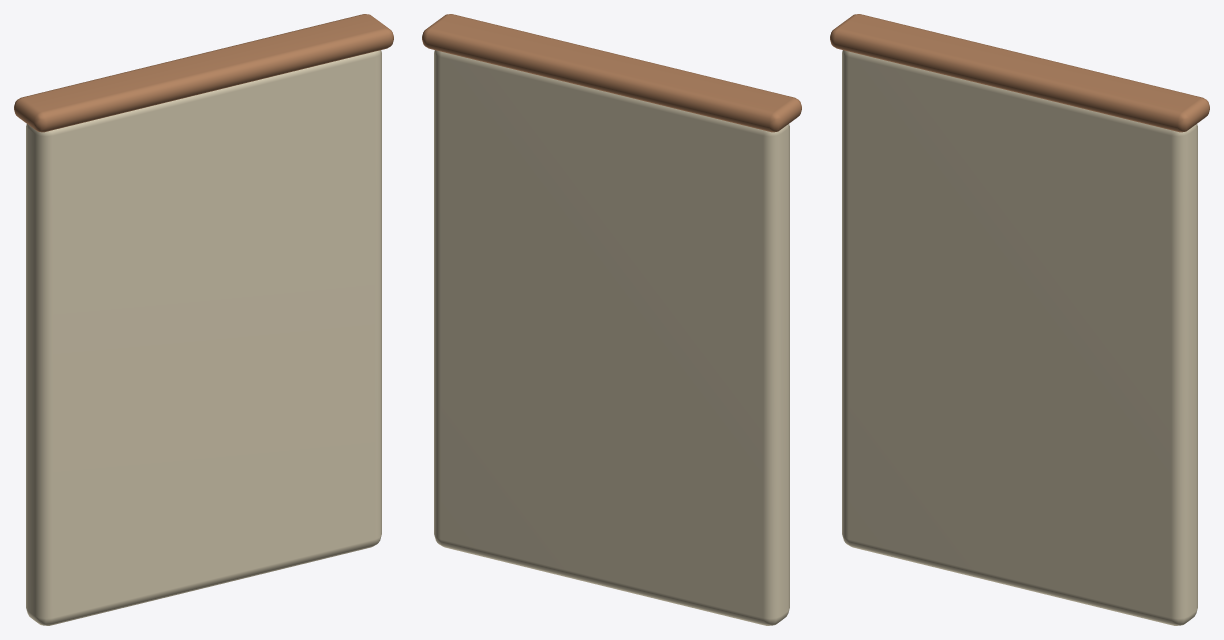
Rendered from wall.glb.
The picture shows the model from 3 angles, left to right: view 1: azimuth 30°, elevation 25°; view 2: azimuth 150°, elevation 25°; view 3: azimuth 330°, elevation 25°; orthographic projection.
Parts seen in each view (by area): view 1: Body_cream, Body_wood; view 2: Body_cream, Body_wood; view 3: Body_cream, Body_wood.
Part boxes in pixels (x1,y1,x2,y2): Body_cream: (26, 50, 381, 625); Body_wood: (14, 14, 393, 132); Body_cream: (434, 50, 789, 625); Body_wood: (422, 14, 801, 132); Body_cream: (842, 50, 1197, 625); Body_wood: (830, 14, 1209, 132).
Size of the model in its own units: 1.87 by 2.59 by 0.25.
